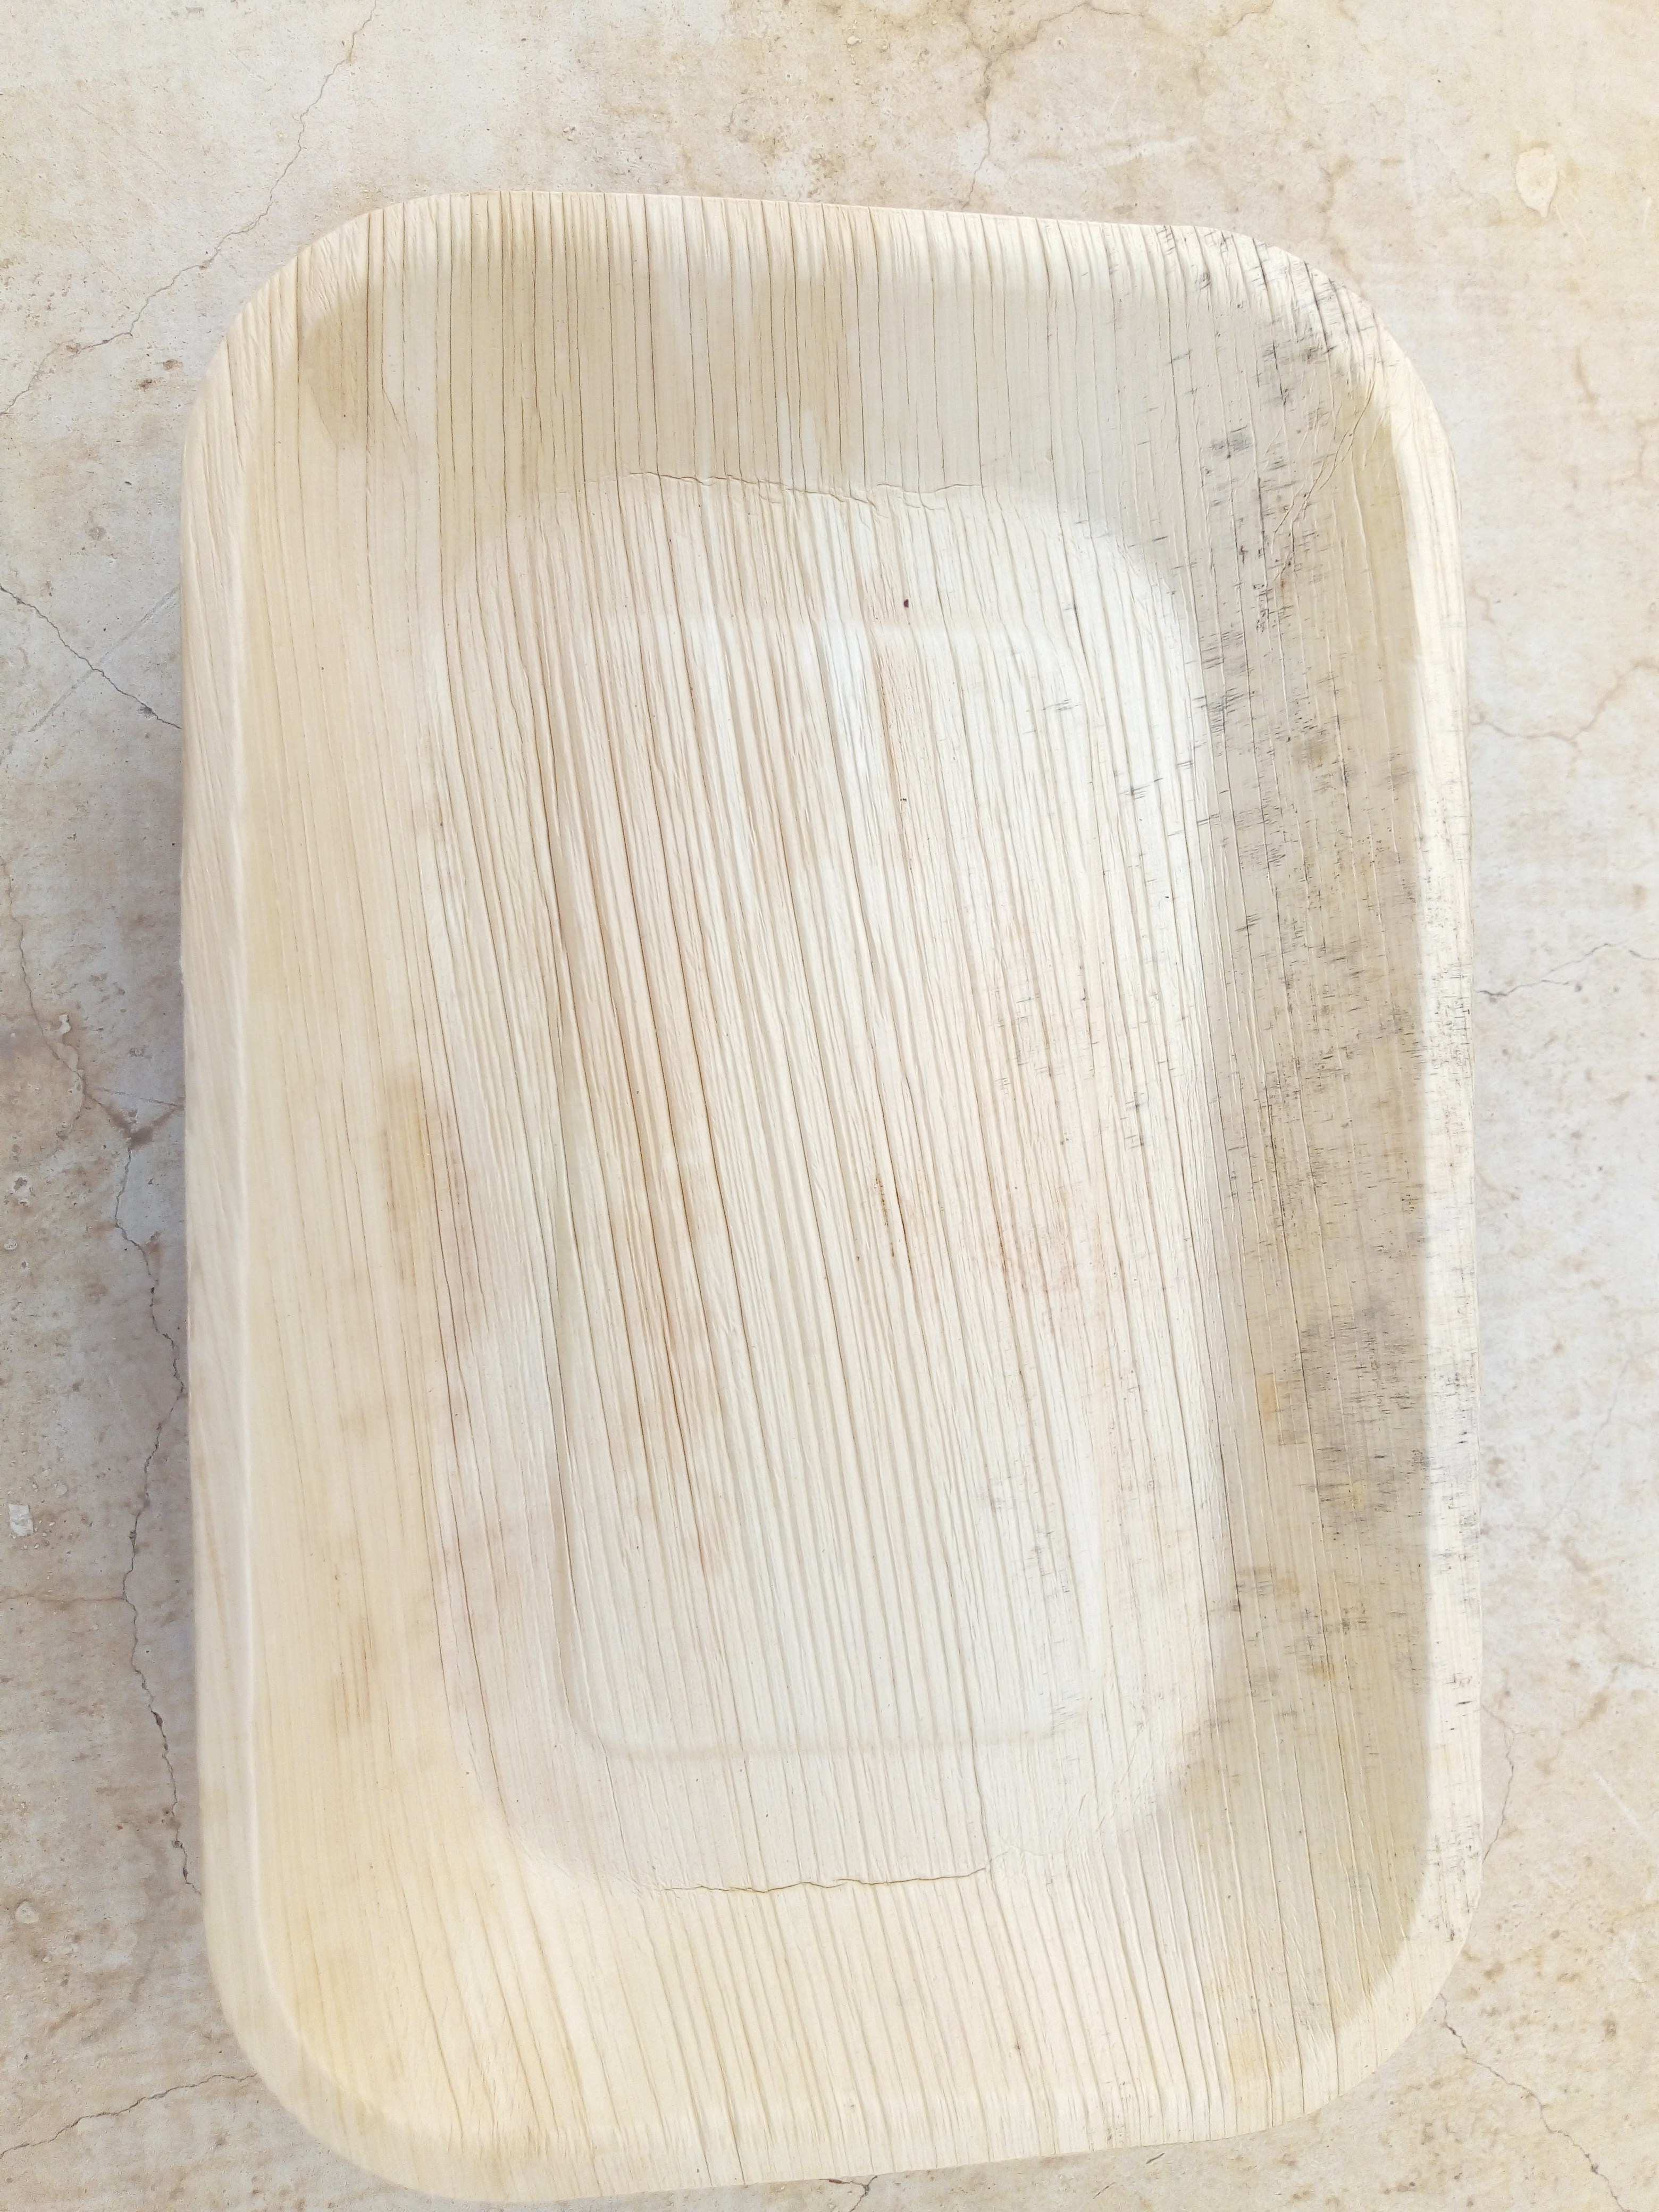areca plate: (193, 167, 1448, 2144)
